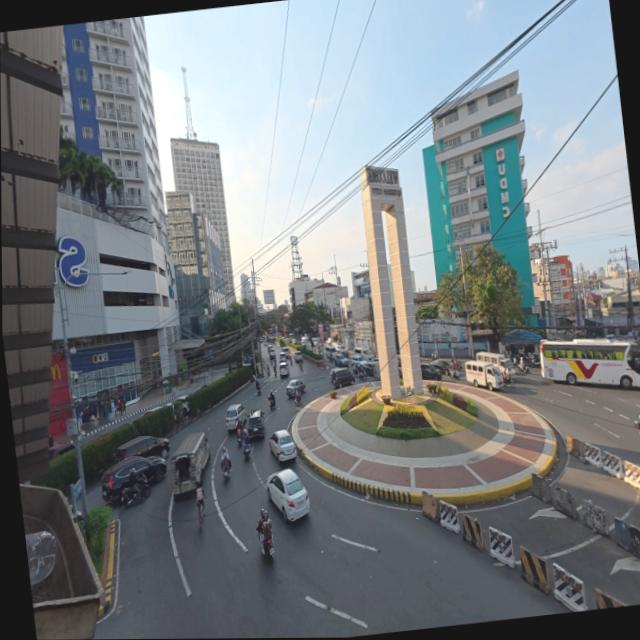Jeepneys: (169, 433, 208, 496)
bus: (540, 339, 639, 388)
car: (101, 457, 166, 501), (266, 469, 309, 521), (114, 436, 168, 461), (269, 430, 296, 463), (224, 404, 246, 432), (329, 367, 353, 389), (247, 410, 263, 438), (48, 442, 74, 459), (420, 363, 441, 381), (172, 395, 188, 418), (286, 379, 305, 398), (430, 360, 448, 374), (142, 406, 164, 417), (359, 361, 375, 376), (350, 354, 364, 371), (333, 353, 348, 367), (371, 358, 379, 376), (279, 362, 288, 378), (336, 345, 348, 356), (293, 351, 302, 363), (281, 347, 290, 357), (279, 353, 287, 363), (288, 335, 295, 343), (397, 354, 401, 366), (263, 340, 268, 347)
motorcycle: (121, 482, 150, 508), (262, 537, 273, 559), (221, 461, 230, 479), (518, 361, 530, 374), (446, 368, 459, 380), (503, 375, 515, 387), (529, 355, 539, 368), (241, 442, 249, 458), (357, 366, 365, 380), (452, 361, 462, 372), (268, 398, 275, 411), (294, 395, 300, 406), (634, 422, 639, 433), (298, 361, 302, 370), (256, 387, 260, 395), (266, 367, 269, 377), (289, 356, 292, 365), (273, 368, 276, 377)
vans: (465, 361, 502, 390), (475, 352, 515, 376), (353, 348, 372, 361), (324, 344, 335, 360)
